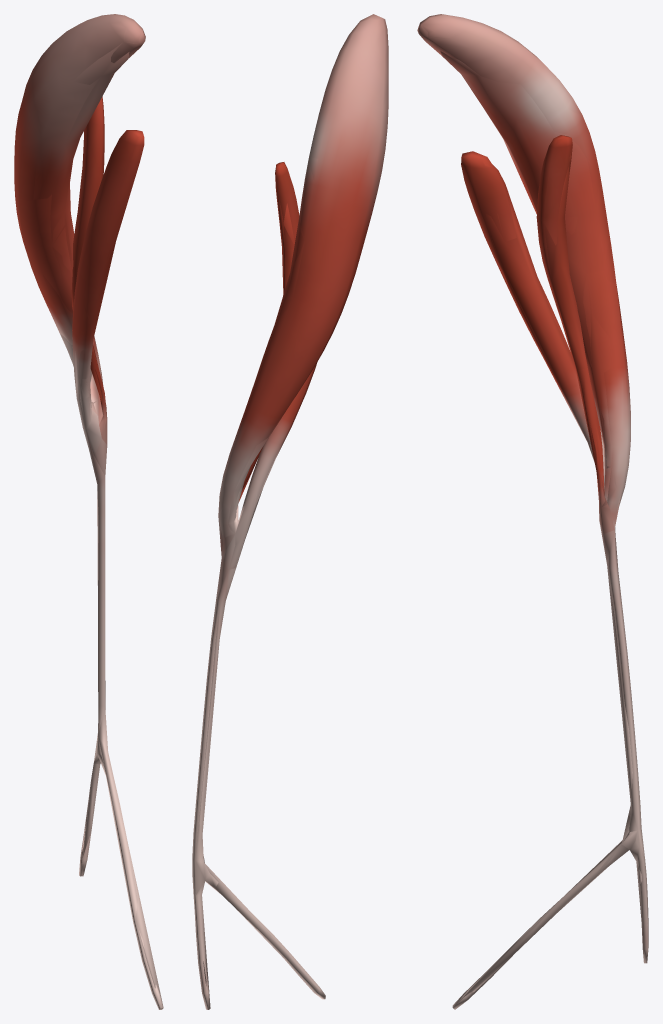
Rendered from L Flexor Carpi Ulnaris.fbx.
3 renders of one model, left to right at view 1: azimuth 30°, elevation 25°; view 2: azimuth 150°, elevation 25°; view 3: azimuth 270°, elevation 25°, orthographic. The views are drawn at different scales.
Parts seen in each view (by area): view 1: L Flexor Carpi Ulnaris, L Flexor Carpi Ulnaris low; view 2: L Flexor Carpi Ulnaris, L Flexor Carpi Ulnaris low; view 3: L Flexor Carpi Ulnaris, L Flexor Carpi Ulnaris low.
Boxes of the visible parts, x1=… form: L Flexor Carpi Ulnaris: x1=14, y1=14, x2=163, y2=1009; L Flexor Carpi Ulnaris low: x1=33, y1=19, x2=162, y2=1004; L Flexor Carpi Ulnaris: x1=192, y1=14, x2=388, y2=1009; L Flexor Carpi Ulnaris low: x1=192, y1=18, x2=385, y2=1003; L Flexor Carpi Ulnaris: x1=417, y1=14, x2=648, y2=1009; L Flexor Carpi Ulnaris low: x1=417, y1=14, x2=647, y2=1003.
Size of the model in its own units: 2.7 by 19.92 by 4.28.
